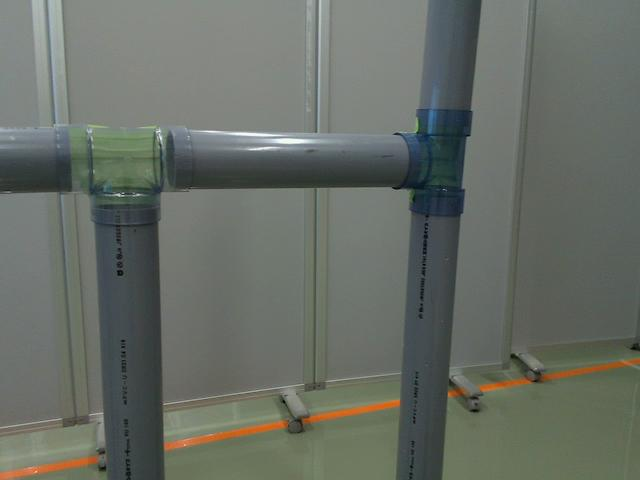junction: (59, 119, 200, 223), (391, 106, 473, 210)
